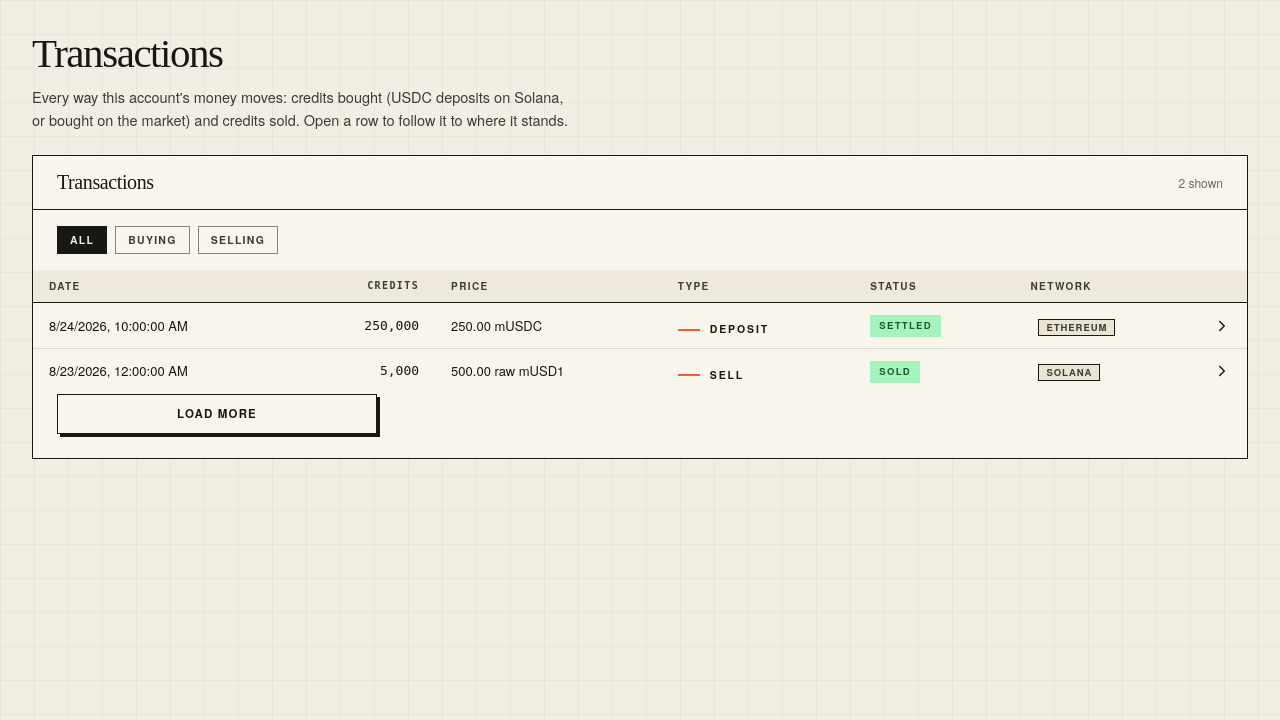
Test: PurchasesComponent › load more appends older transactions without duplicates and hides at exhaustion
Click the button "Load more": {"x": 217, "y": 414} [57,394,377,434]
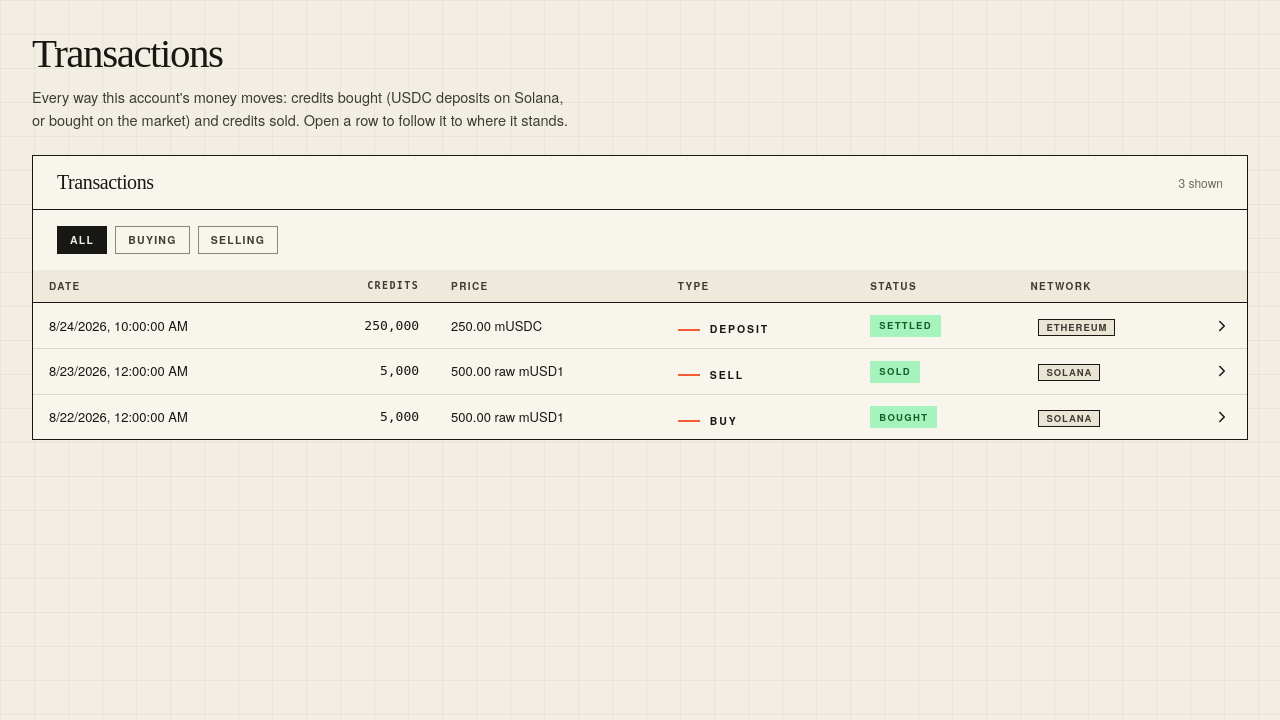
Expected: the button "Load more" is gone
